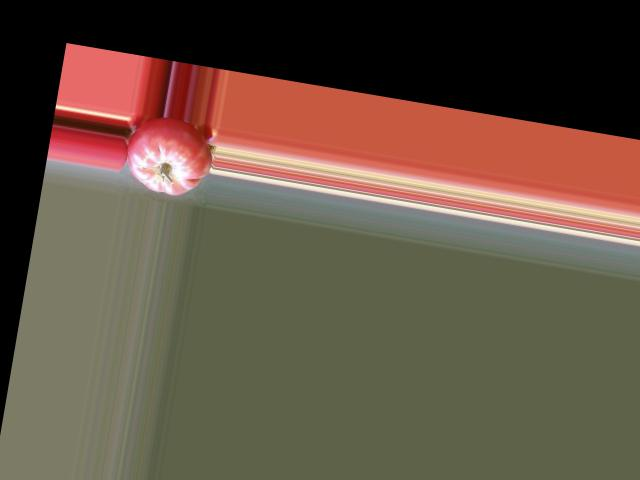tomato: (121, 111, 218, 200)
